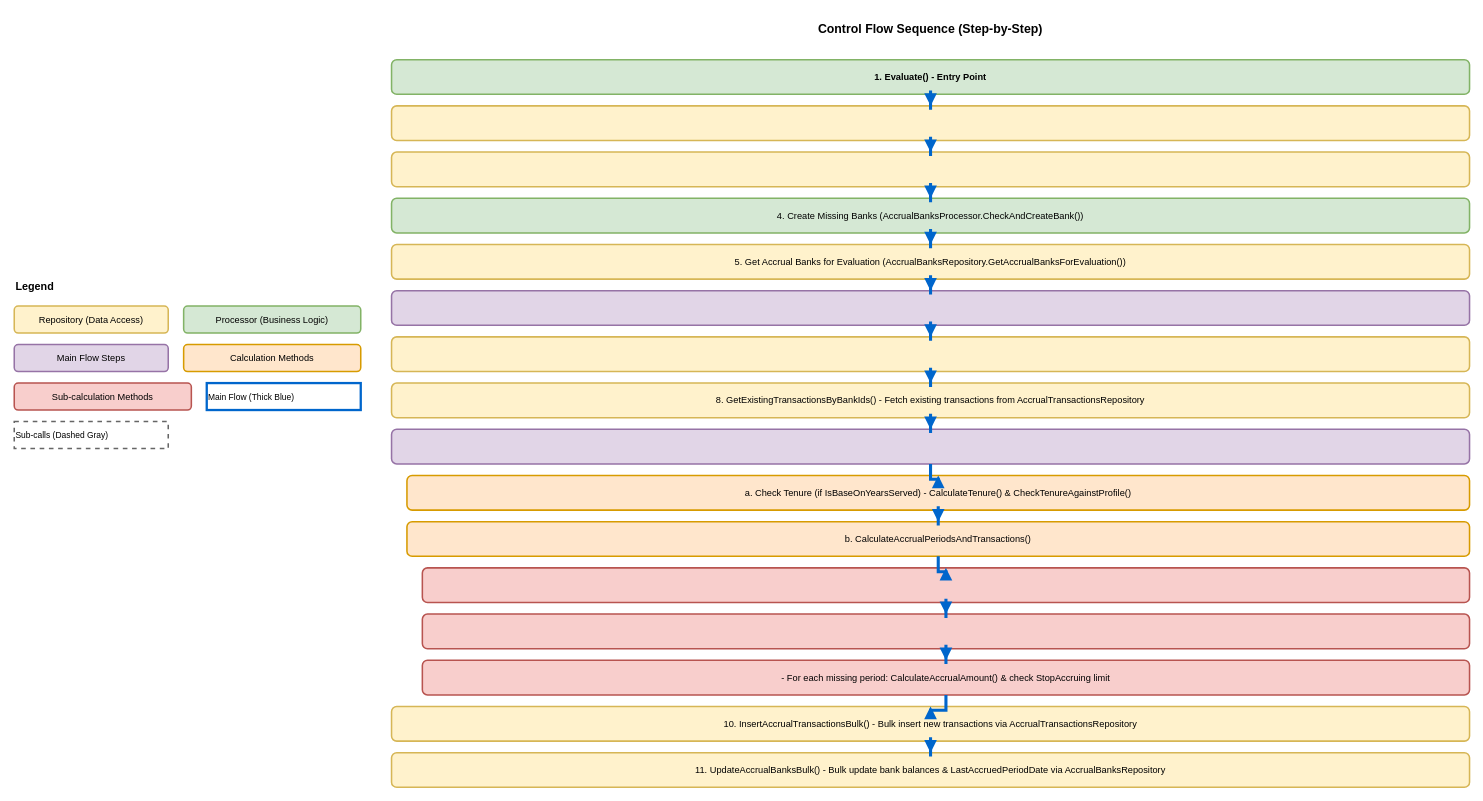
The diagram is 1483 pixels wide and 801 high, and some of its shapes have lost their labels. The centre of each missing label's shape, as x and y in pixels:
"- CalculateAllAccrualPeriods() - Generate period dates based on frequency" goes at point (945, 585).
"- Find missing periods (compare with existing transactions)" goes at point (945, 631).
"2. Get Accrual Rules from AccrualRulesRepository" goes at point (930, 123).
"3. GetAccrualProfilesByProfileOrTrackIds() - Get Employee Settings & Profiles" goes at point (930, 169).
"6. Group Banks by Tenant, then for each tenant:" goes at point (930, 308).
"7. GetAccrualBanksToUpdate() - Process Tenant Banks" goes at point (930, 354).
"9. For each Bank:" goes at point (930, 446).
